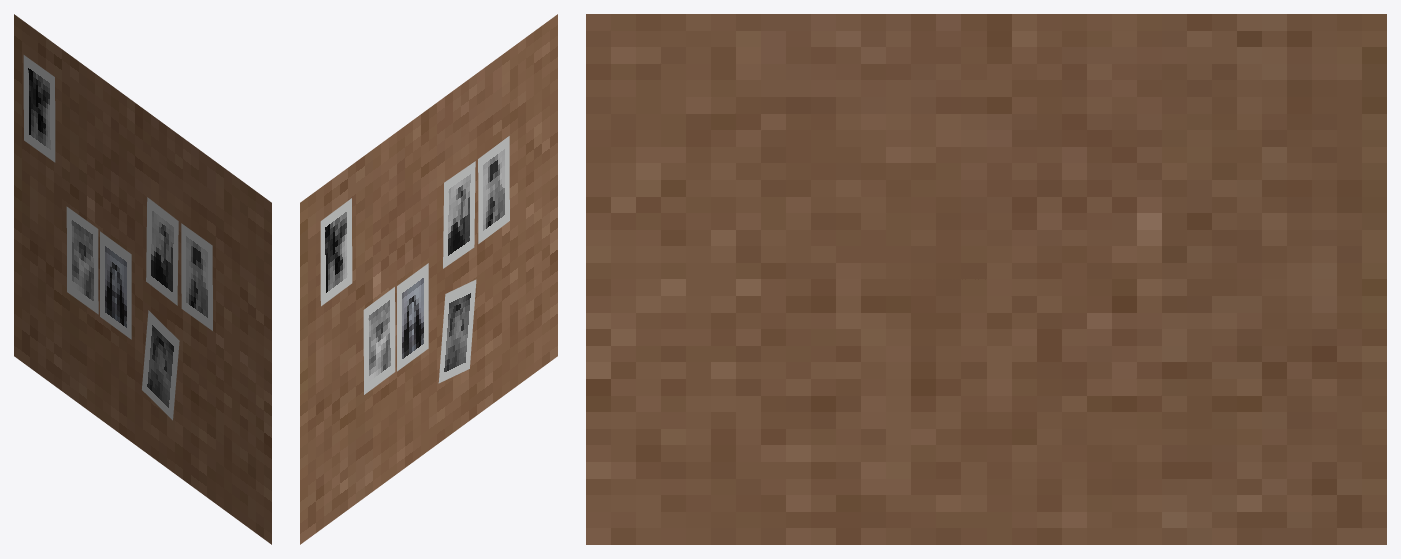
Rendered from object_corkboard.glb.
3 views of the same model, side by side, from view 1: azimuth 30°, elevation 25°; view 2: azimuth 150°, elevation 25°; view 3: azimuth 270°, elevation 25° (orthographic). The views are drawn at different scales.
Visible parts, largest first — view 1: Corkboard; view 2: Corkboard; view 3: Corkboard.
Part boxes in pixels (x1=…): Corkboard: x1=14, y1=14, x2=271, y2=544; Corkboard: x1=300, y1=14, x2=557, y2=544; Corkboard: x1=586, y1=14, x2=1386, y2=544.
Size of the model in its own units: 0.02 by 1.2 by 1.64.
1 material, 1 textured.
